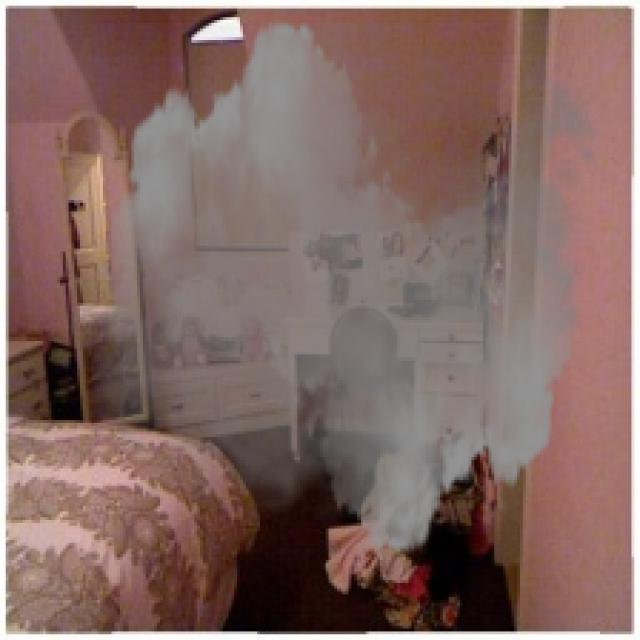smoke: (80, 3, 617, 571)
